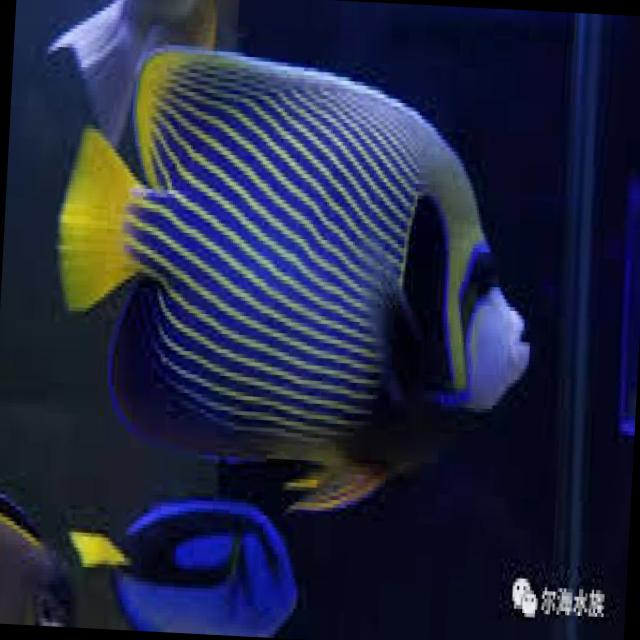AngelFish: (51, 37, 542, 520)
